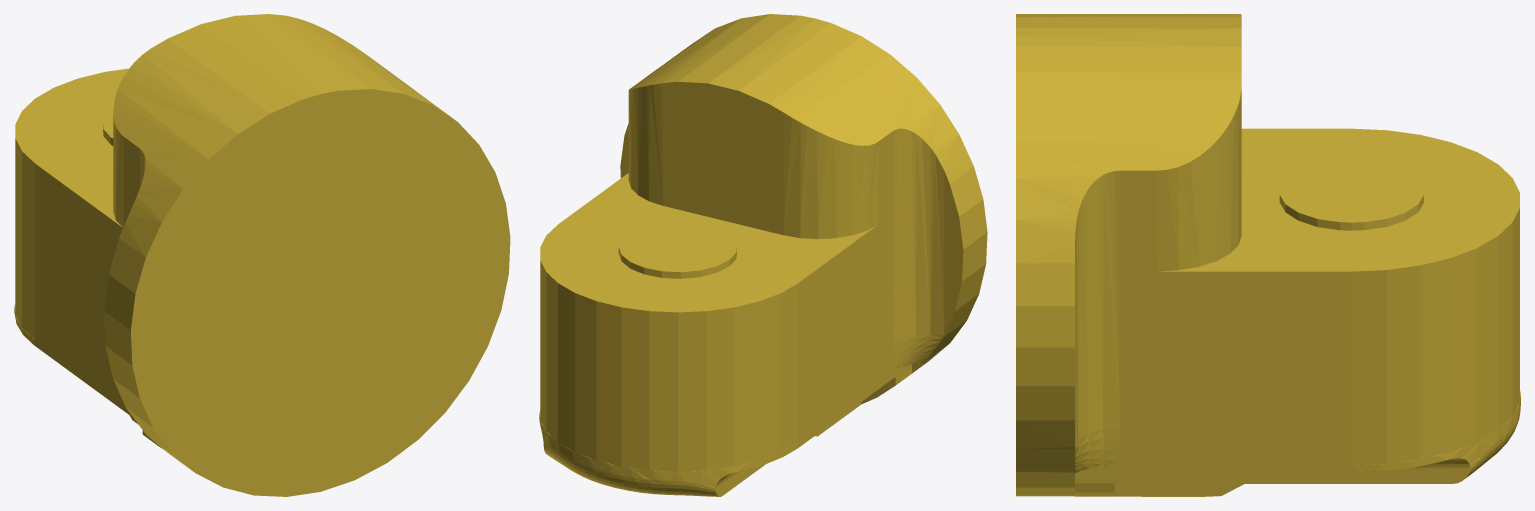
The model's file is rotary_input.dae.
The picture shows the model from 3 angles, left to right: view 1: azimuth 30°, elevation 25°; view 2: azimuth 150°, elevation 25°; view 3: azimuth 270°, elevation 25°; orthographic projection. The views are drawn at different scales.
Parts seen in each view (by area): view 1: Rotary_Input; view 2: Rotary_Input; view 3: Rotary_Input.
Part boxes in pixels (x1=…): Rotary_Input: x1=14, y1=14, x2=510, y2=496; Rotary_Input: x1=539, y1=14, x2=987, y2=496; Rotary_Input: x1=1016, y1=14, x2=1520, y2=496.
Bounding box in the file's own units: 0.0507 × 0.0531 × 0.0508.
